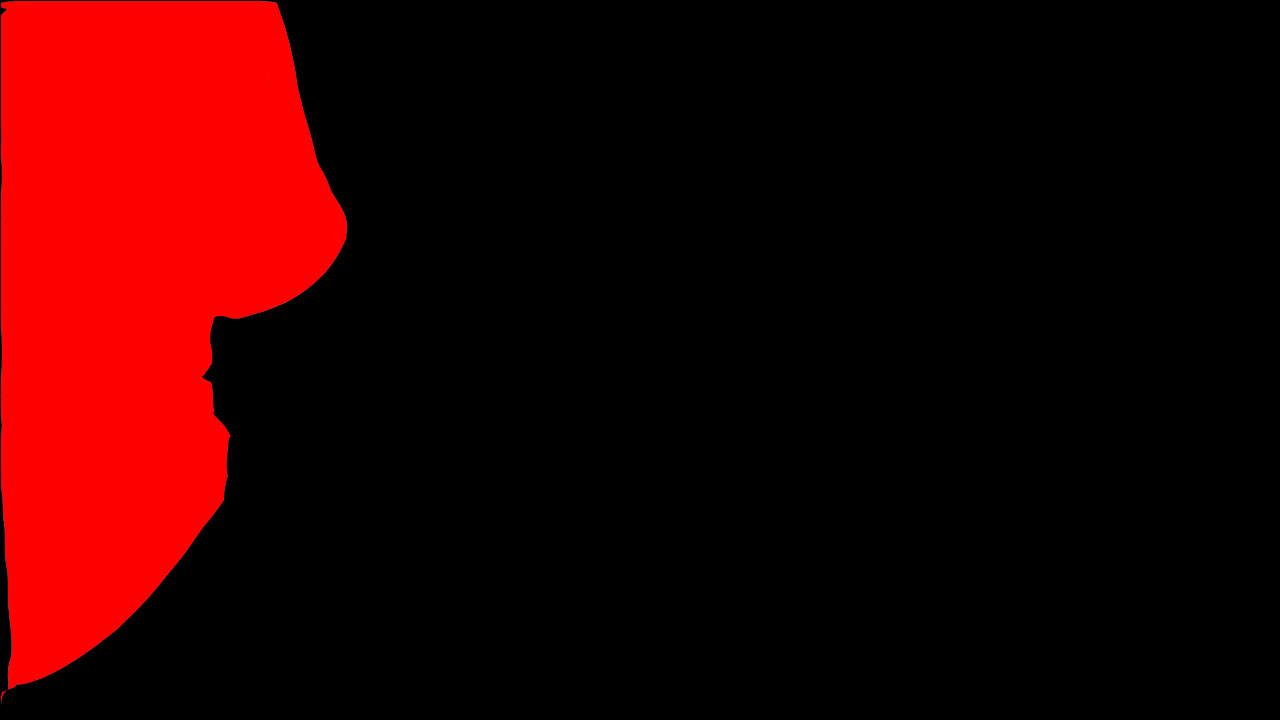uniforme_ifmt: (6, 2, 353, 685)
